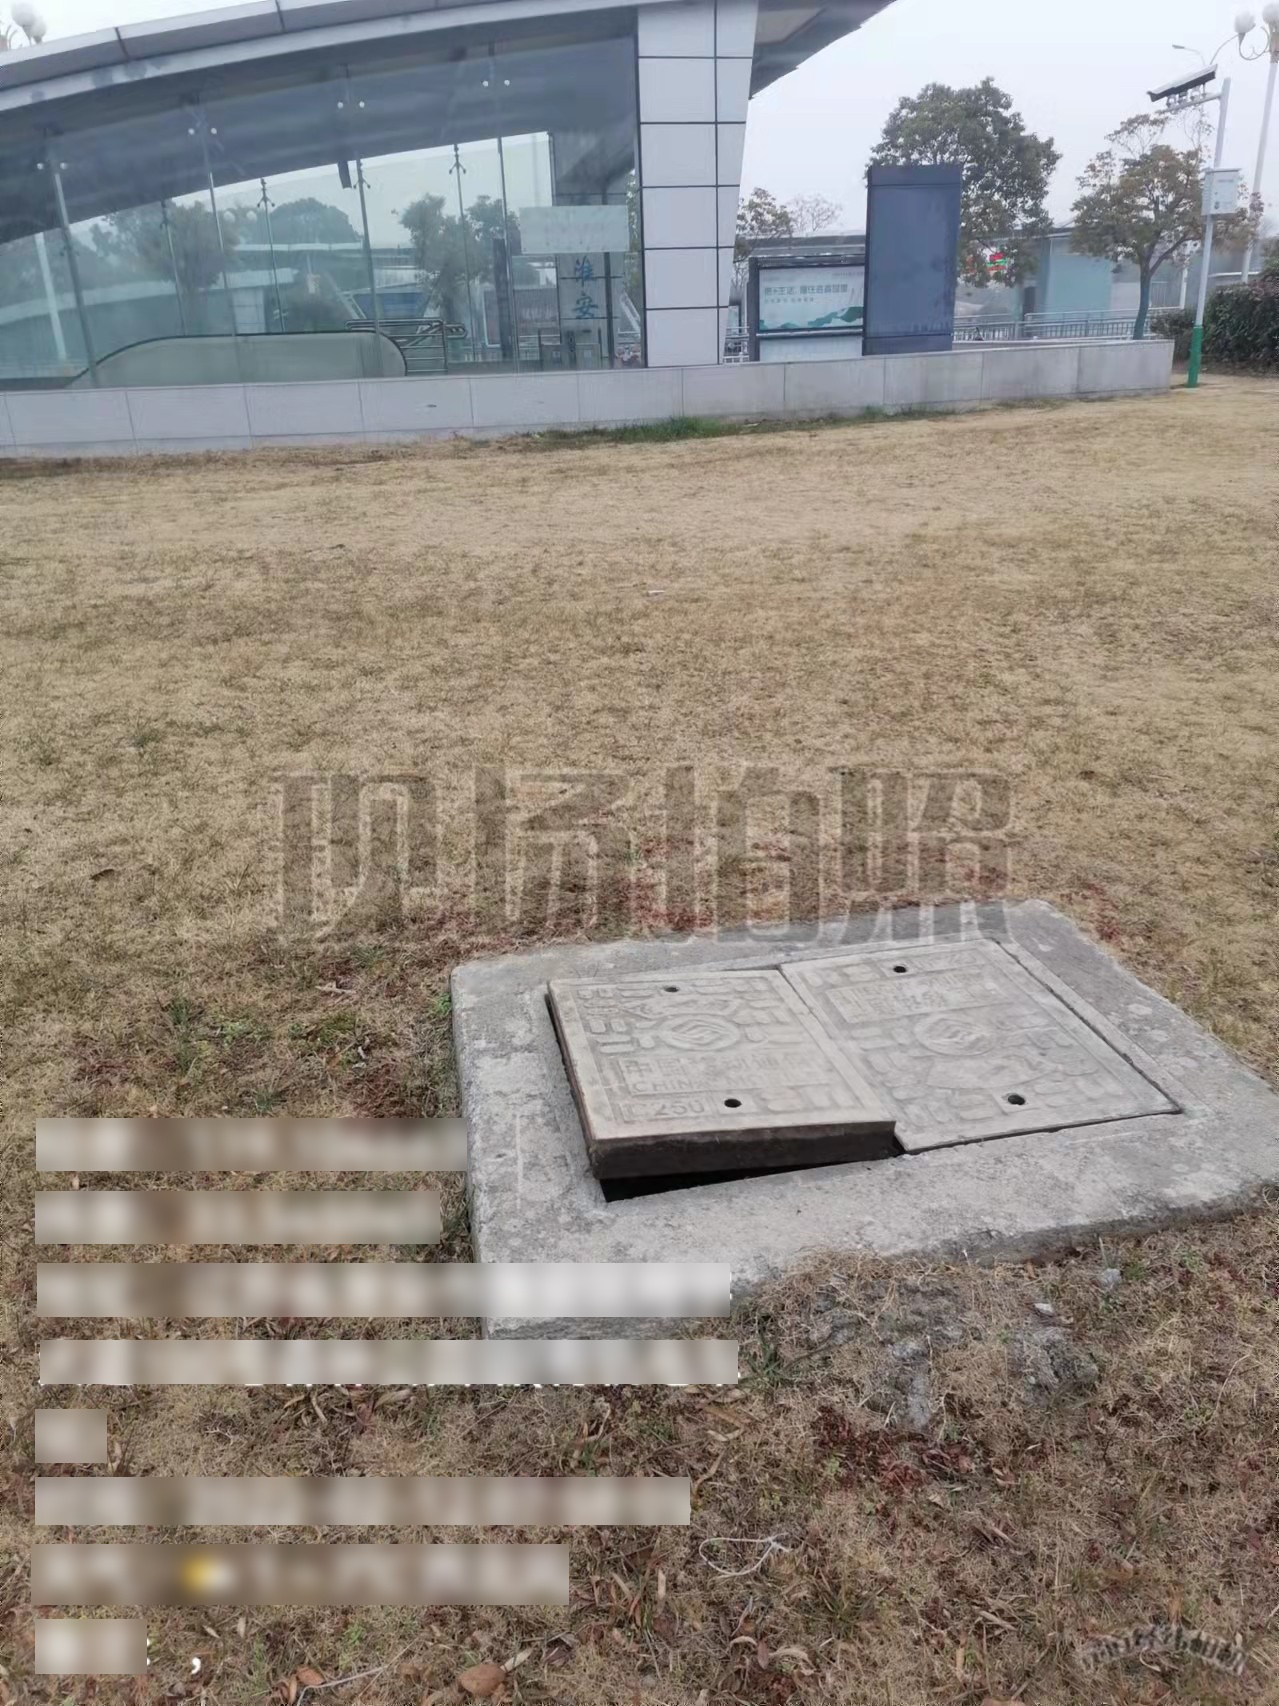uncovered: (529, 927, 1204, 1226)
